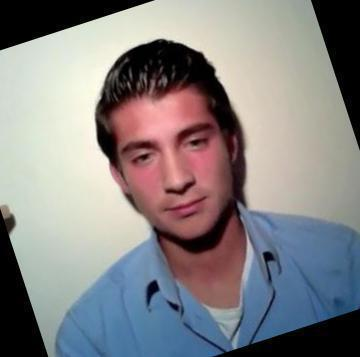Drunk: (110, 90, 228, 233)
